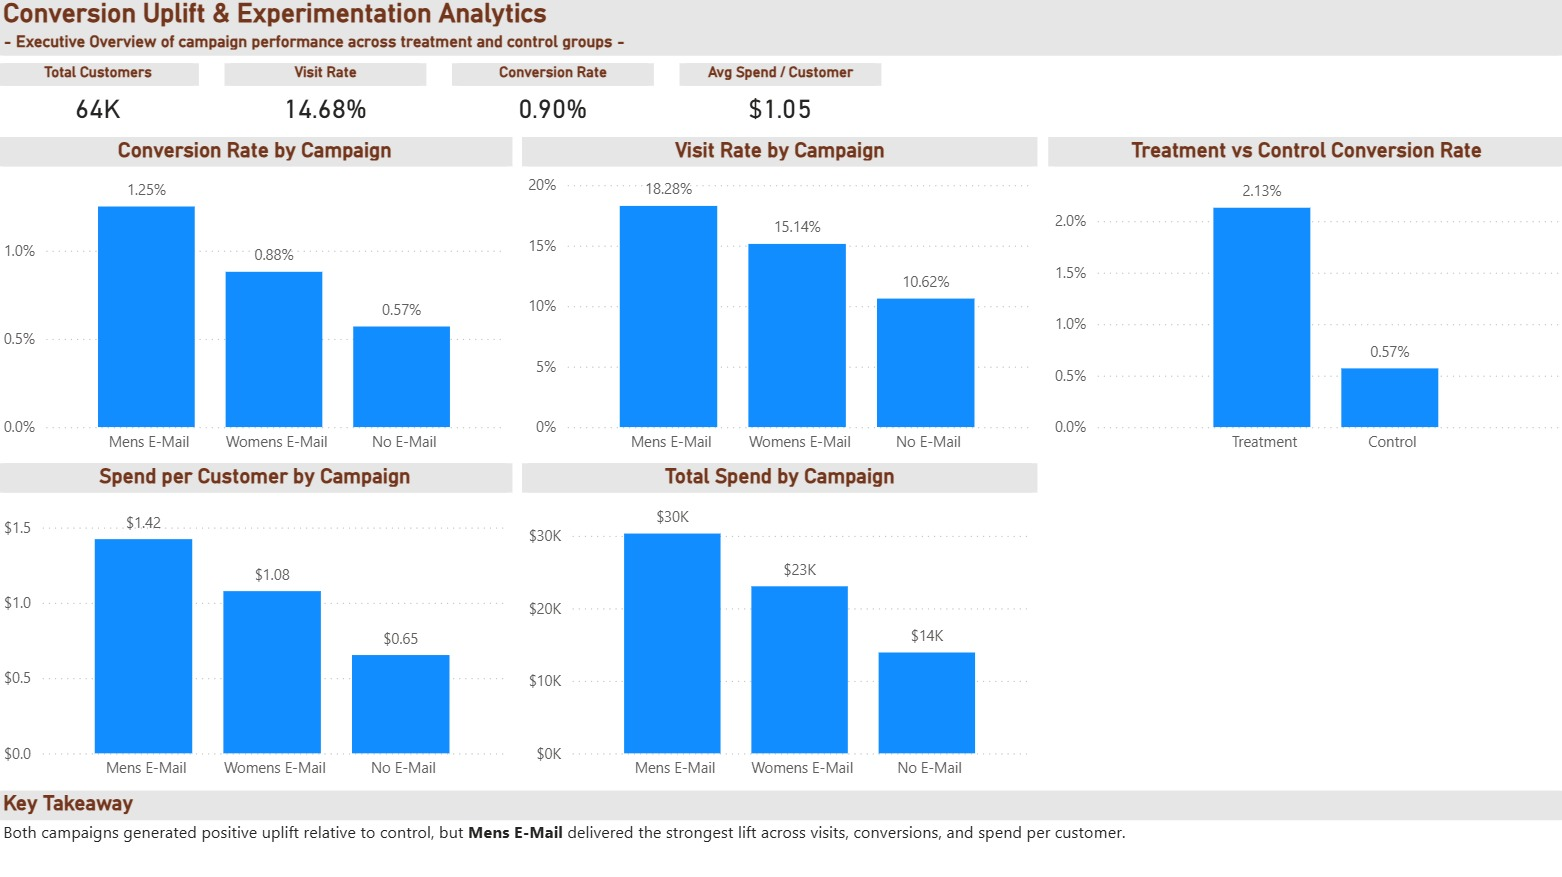

What the dashboard file says about the page in this screenshot:
{"tool":"powerbi","page":{"name":"Executive Overview","canvas":[1280,720],"ordinal":0},"visuals":[{"type":"textbox","title":"Conversion Uplift & Experimentation Analytics","box":[0,0,1279,29],"z":0},{"type":"textbox","title":"- Executive Overview of campaign performance across treatment and control groups -","box":[0,29,1279,20],"z":1000},{"type":"card","title":"Visit Rate","fields":{"Values":["Avg(Campaign Summary.visit_rate)"]},"box":[185.7,54,165,60],"z":2000},{"type":"card","title":"Conversion Rate","fields":{"Values":["Avg(Campaign Summary.conversion_rate)"]},"box":[371.3,54,165,60],"z":3000},{"type":"card","title":"Avg Spend / Customer","fields":{"Values":["Avg(Campaign Summary.avg_spend_per_customer)"]},"box":[557,54,165,60],"z":4000},{"type":"clusteredColumnChart","title":"Conversion Rate by Campaign","fields":{"Category":["Campaign Summary.segment"],"Y":["Sum(Campaign Summary.conversion_rate)"]},"box":[0,114,421,267],"z":5000},{"type":"clusteredColumnChart","title":"Visit Rate by Campaign","fields":{"Category":["Campaign Summary.segment"],"Y":["Sum(Campaign Summary.visit_rate)"]},"box":[429,114,421,267],"z":6000},{"type":"clusteredColumnChart","title":"Spend per Customer by Campaign","fields":{"Category":["Campaign Summary.segment"],"Y":["Sum(Campaign Summary.avg_spend_per_customer)"]},"box":[0,381,421,267],"z":7000},{"type":"clusteredColumnChart","title":"Total Spend by Campaign","fields":{"Category":["Campaign Summary.segment"],"Y":["Sum(Campaign Summary.total_spend)"]},"box":[429,381,421,267],"z":8000},{"type":"clusteredColumnChart","title":"Treatment vs Control Conversion Rate","fields":{"Y":["Sum(Campaign Summary.conversion_rate)"],"Category":["Treatment Control Summary.Treatment Label"]},"box":[858,114,422,267],"z":9000},{"type":"card","title":"Total Customers","fields":{"Values":["Sum(Campaign Summary.customer_count)"]},"box":[0,54,165,60],"z":11000},{"type":"textbox","title":"Key Takeaway","box":[0,648,1279,72],"z":11001}]}

Visuals, with their boxes in screenshot pixels (x1, y1, x2, y2), scaled from the page's 1280x720 canvas onto the 1562x877 screenshot:
"Conversion Uplift & Experimentation Analytics" textbox: BBox(0, 0, 1561, 35)
"- Executive Overview of campaign performance across treatment and control groups -" textbox: BBox(0, 35, 1561, 60)
"Visit Rate" card: BBox(227, 66, 428, 139)
"Conversion Rate" card: BBox(453, 66, 654, 139)
"Avg Spend / Customer" card: BBox(680, 66, 881, 139)
"Conversion Rate by Campaign" clusteredColumnChart: BBox(0, 139, 514, 464)
"Visit Rate by Campaign" clusteredColumnChart: BBox(524, 139, 1037, 464)
"Spend per Customer by Campaign" clusteredColumnChart: BBox(0, 464, 514, 789)
"Total Spend by Campaign" clusteredColumnChart: BBox(524, 464, 1037, 789)
"Treatment vs Control Conversion Rate" clusteredColumnChart: BBox(1047, 139, 1561, 464)
"Total Customers" card: BBox(0, 66, 201, 139)
"Key Takeaway" textbox: BBox(0, 789, 1561, 876)
